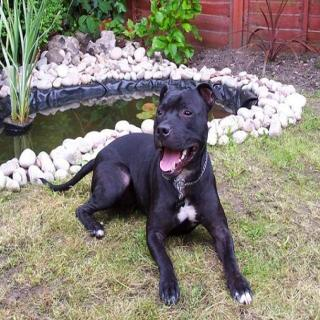dog: (149, 82, 220, 180)
nose: (152, 124, 176, 141)
